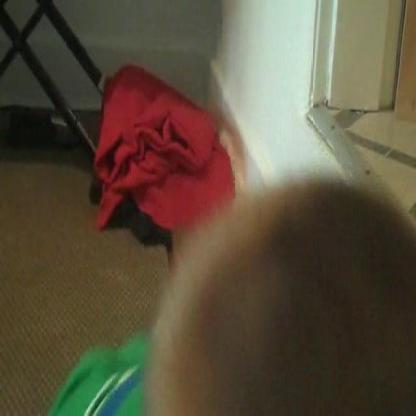other: (94, 71, 231, 218)
